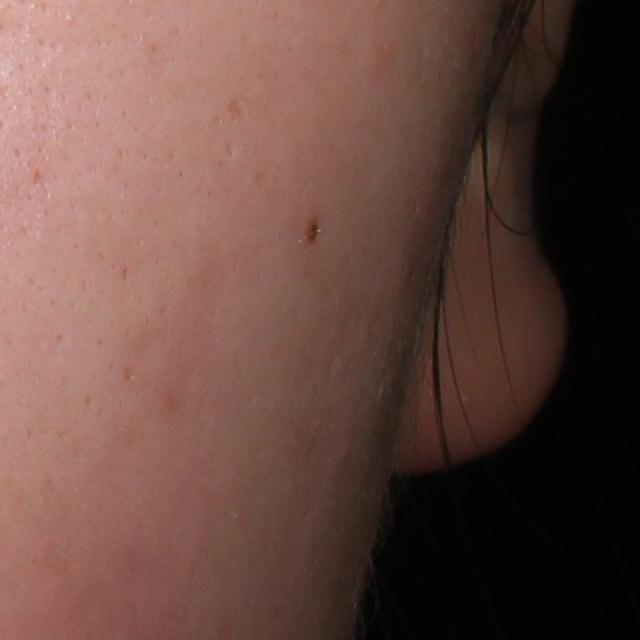atrophic_scar: (224, 97, 248, 128)
nevus: (299, 216, 320, 250)
